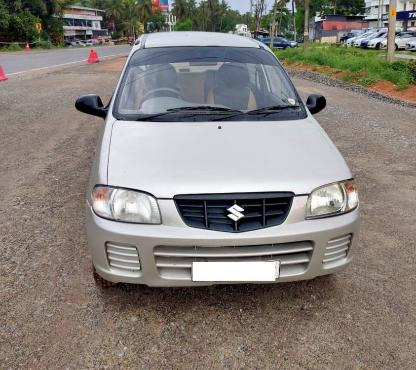car: (68, 22, 360, 296)
